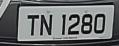0: (93, 12, 106, 36)
1: (59, 12, 69, 38)
2: (67, 12, 81, 37)
8: (81, 12, 93, 36)
N: (40, 12, 54, 39)
T: (25, 12, 40, 39)
